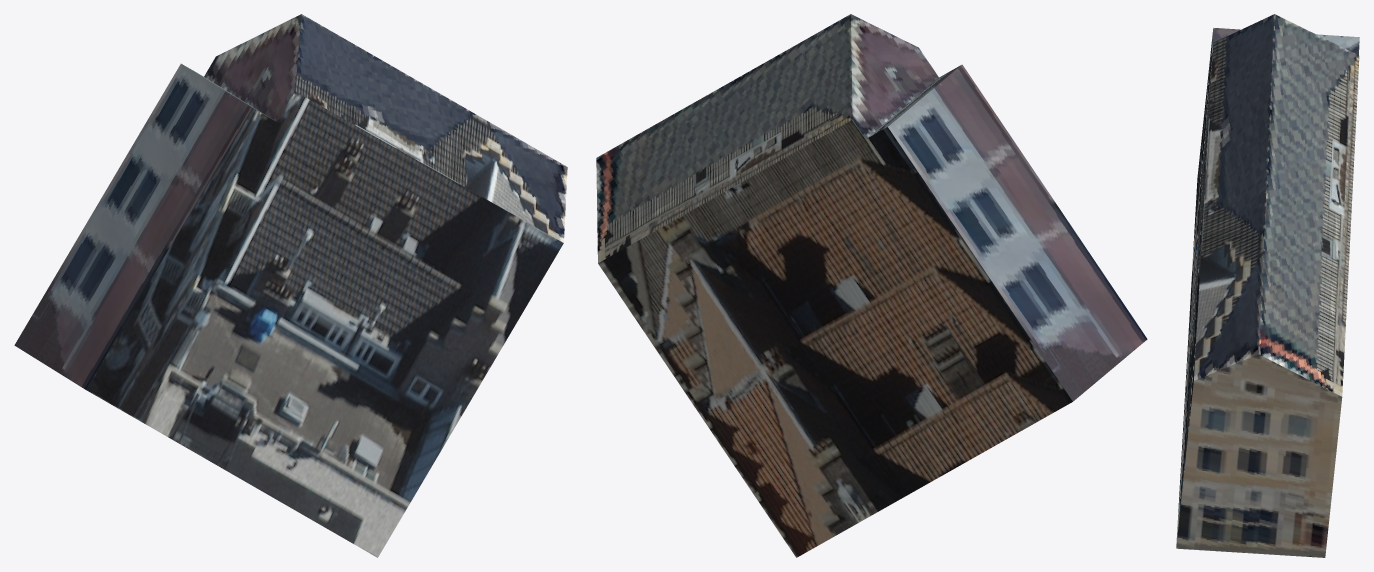
The picture shows the model from 3 angles, left to right: view 1: azimuth 30°, elevation 25°; view 2: azimuth 150°, elevation 25°; view 3: azimuth 270°, elevation 25°; orthographic projection.
Visible parts, largest first — view 1: BAG_0599100000671632 (×3); view 2: BAG_0599100000671632 (×2); view 3: BAG_0599100000671632 (×2).
Part boxes in pixels (left/top/right/bottom): BAG_0599100000671632 (×3): left=14, top=14, right=567, bottom=557; BAG_0599100000671632 (×2): left=596, top=14, right=1147, bottom=557; BAG_0599100000671632 (×2): left=1176, top=14, right=1359, bottom=557.
Bounding box in the file's own units: 22.95 × 22.43 × 7.04.
3 materials, 3 textured.
